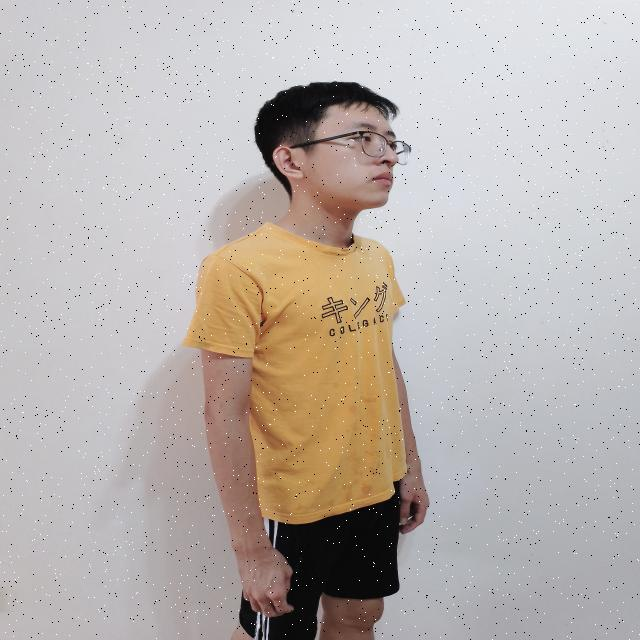person_without_labcoat: (184, 82, 429, 640)
